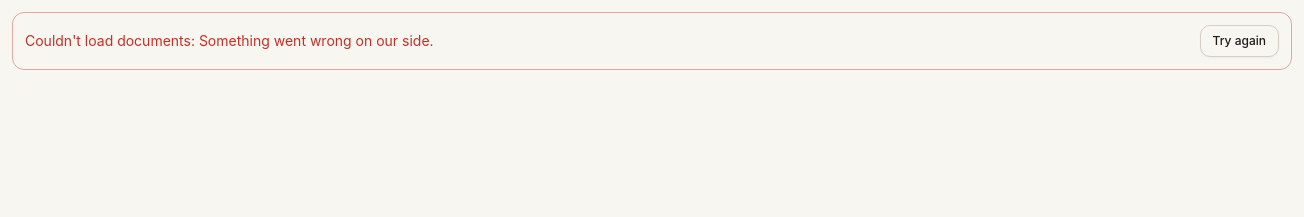
Test: DocumentList › shows an error with a working retry
Check: the message shows "Something went wrong on our side.", box top-left (199, 32), bottom-right (434, 49)
What coordinates should you click on to do the following:
click the button "Try again"
I would click on:
 (1239, 41)
Its box is top-left (1200, 25), bottom-right (1279, 57).
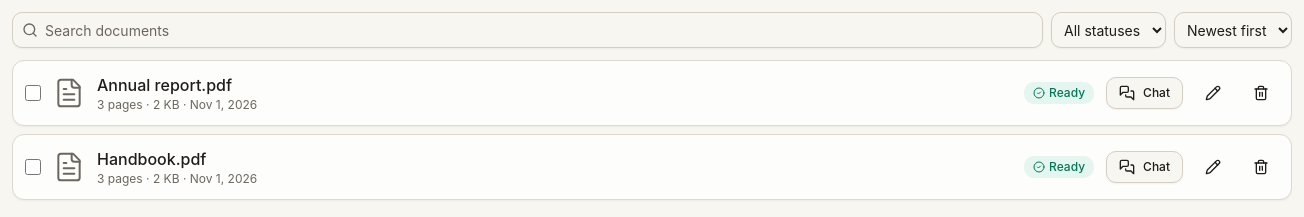
Check: the list named "Documents" is shown
